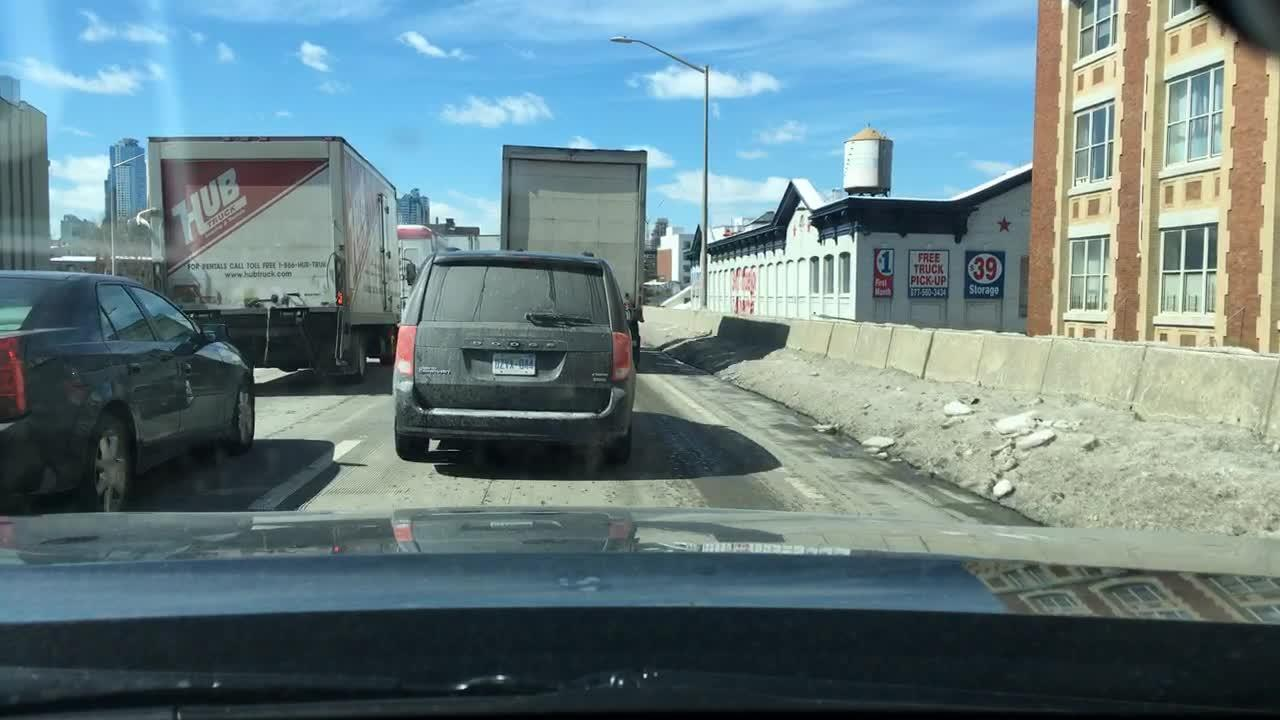dodge: (467, 336, 560, 351)
